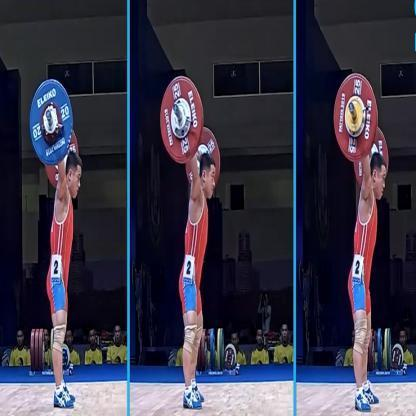barbell: (158, 74, 222, 190), (332, 71, 391, 191), (28, 79, 81, 189)
